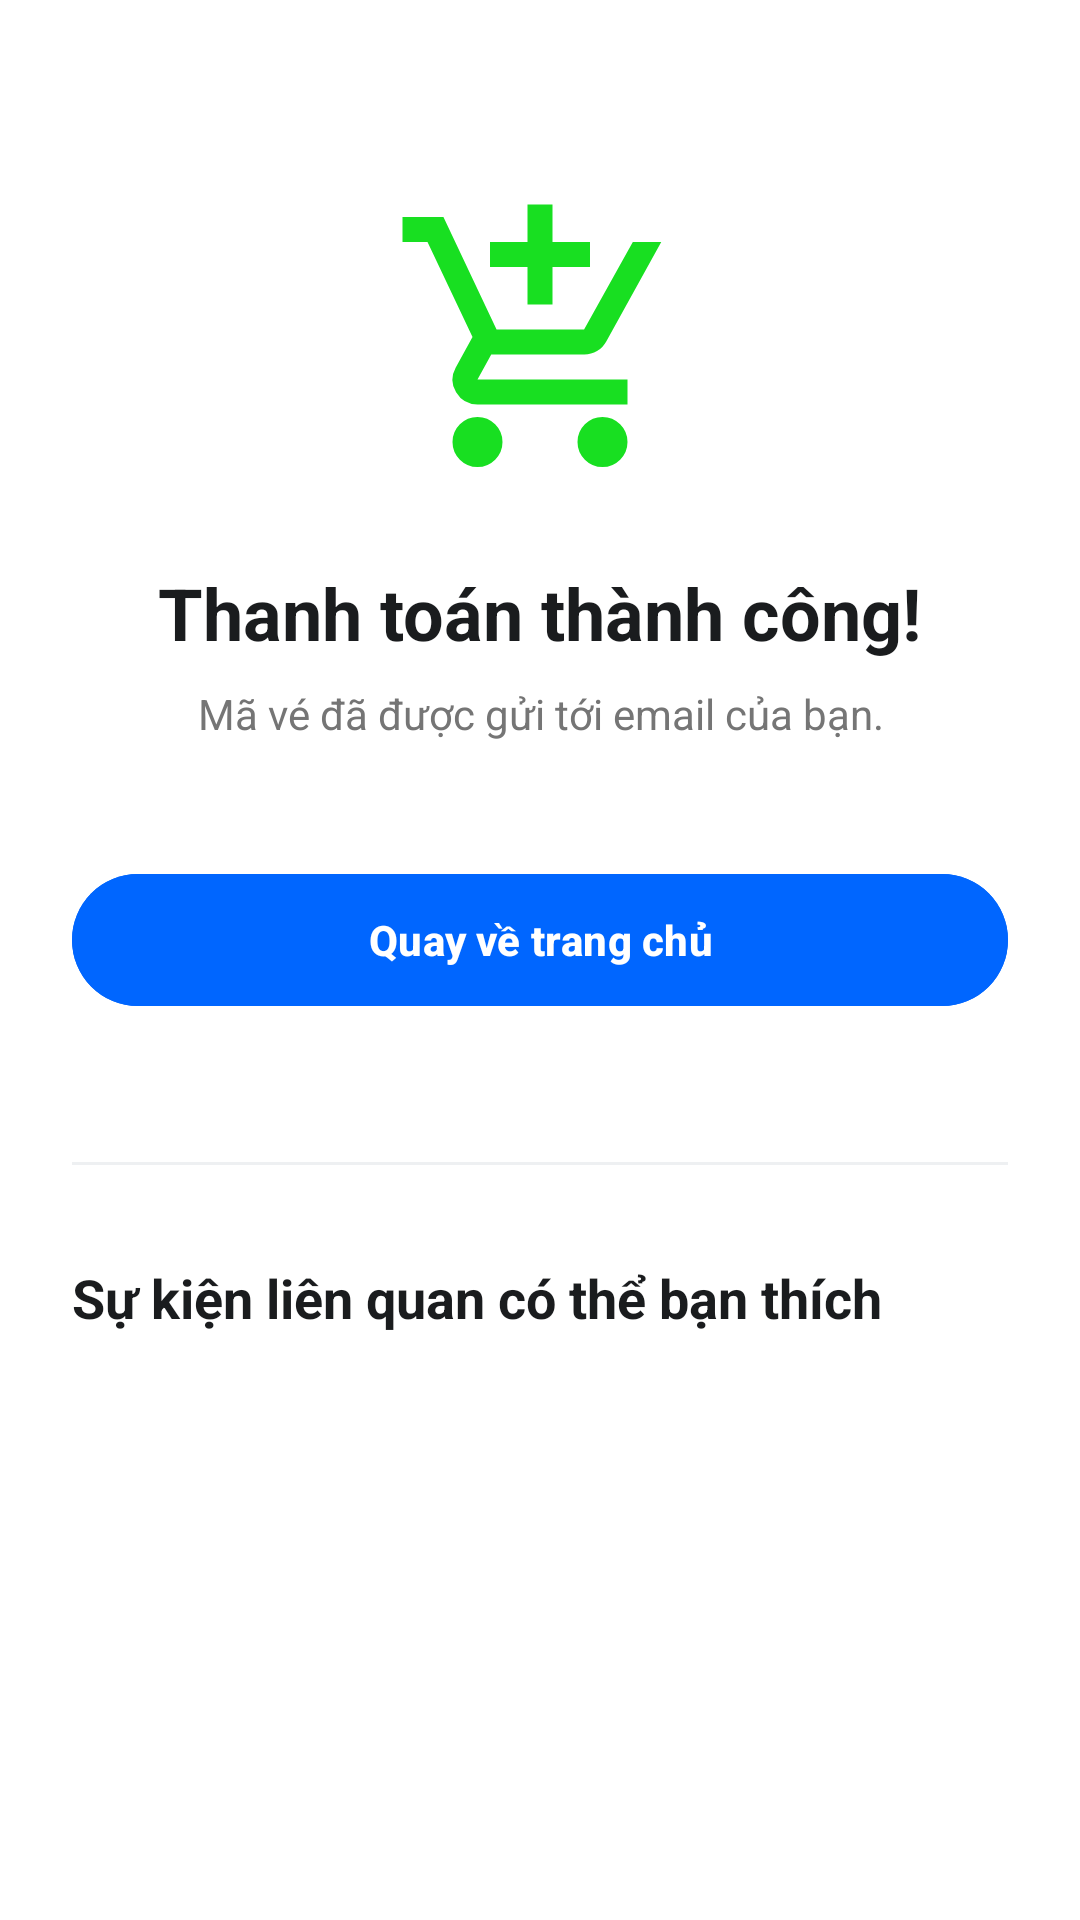

Screen size 1080×1920. Icon name, then its box in pixels as (left=x1, top=y1, right=x2, bottom=y2):
shop: (left=402, top=204, right=661, bottom=467)
